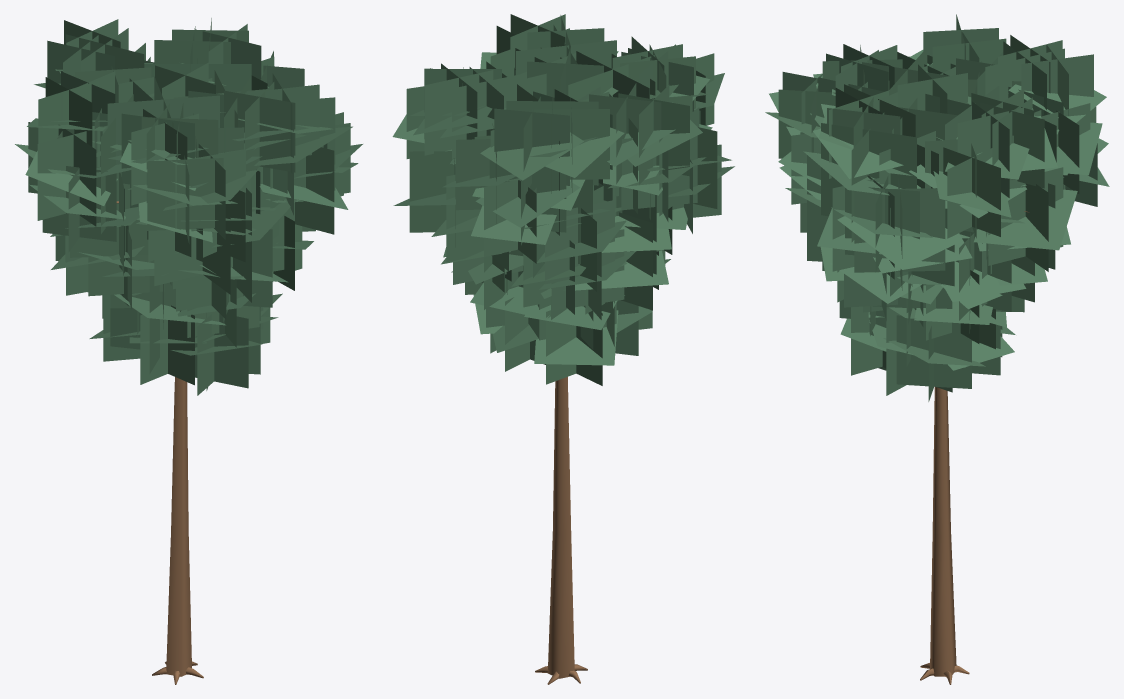
File: pin_5_f3_loin.glb
3 views of the same model, side by side, from view 1: azimuth 30°, elevation 25°; view 2: azimuth 150°, elevation 25°; view 3: azimuth 270°, elevation 25° (orthographic).
Visible parts, largest first — view 1: Pin_T5_f3_Leger_Loin; view 2: Pin_T5_f3_Leger_Loin; view 3: Pin_T5_f3_Leger_Loin.
Boxes of the visible parts, x1,y1,x2,y2 form: Pin_T5_f3_Leger_Loin: (15,18,362,684); Pin_T5_f3_Leger_Loin: (392,14,734,684); Pin_T5_f3_Leger_Loin: (765,14,1109,684).
Size of the model in its own units: 12.6 by 22.75 by 11.84.
